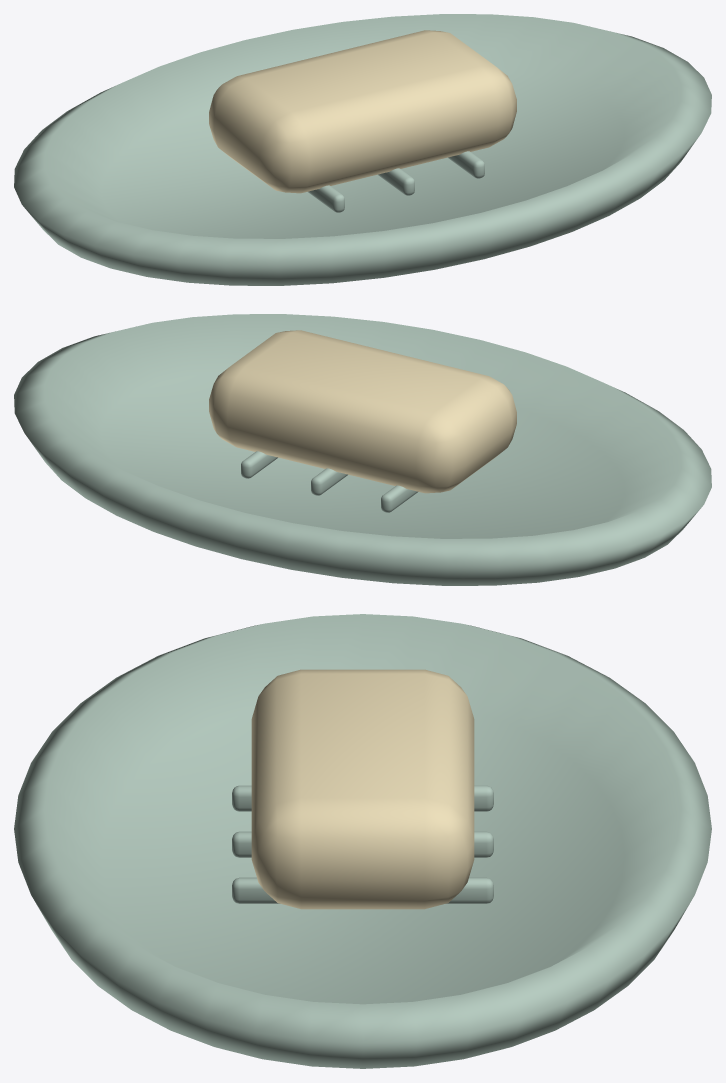
File: soap_dish.glb
The picture shows the model from 3 angles, top to bottom: view 1: azimuth 30°, elevation 25°; view 2: azimuth 150°, elevation 25°; view 3: azimuth 270°, elevation 25°; orthographic projection. The views are drawn at different scales.
Visible parts, largest first — view 1: soap_dish__body, soap_dish__accent; view 2: soap_dish__body, soap_dish__accent; view 3: soap_dish__body, soap_dish__accent.
Boxes of the visible parts, left/top/right/bottom form: soap_dish__body: left=14, top=14, right=711, bottom=285; soap_dish__accent: left=209, top=30, right=516, bottom=193; soap_dish__body: left=14, top=314, right=711, bottom=585; soap_dish__accent: left=209, top=330, right=516, bottom=493; soap_dish__body: left=14, top=614, right=711, bottom=1068; soap_dish__accent: left=251, top=669, right=474, bottom=909.
Bounding box in the file's own units: 0.232 × 0.0455 × 0.16.
